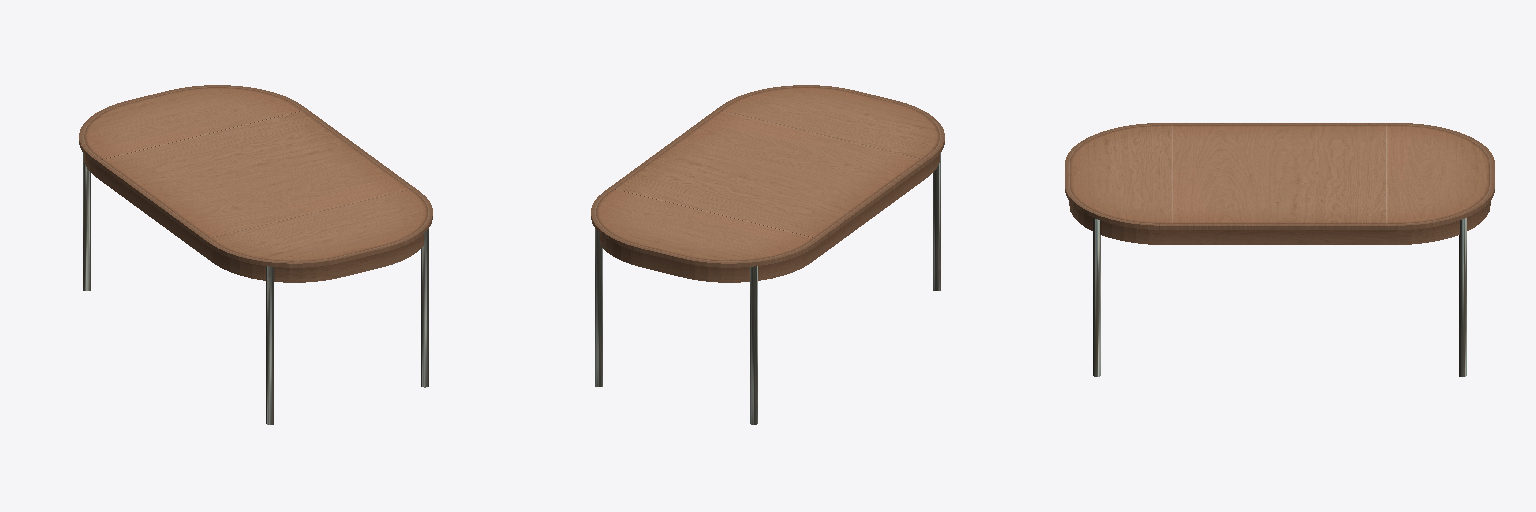
The picture shows the model from 3 angles: view 1: azimuth 30°, elevation 25°; view 2: azimuth 150°, elevation 25°; view 3: azimuth 270°, elevation 25°; orthographic projection.
Visible parts, largest first — view 1: table_01; view 2: table_01; view 3: table_01.
Boxes of the visible parts, <box> form: table_01: <box>79,85,432,424</box>; table_01: <box>591,85,944,424</box>; table_01: <box>1065,123,1494,376</box>.
Bounding box in the file's own units: 10.4 × 7.7 × 18.4.
Materials: 1 (1 with a texture image).